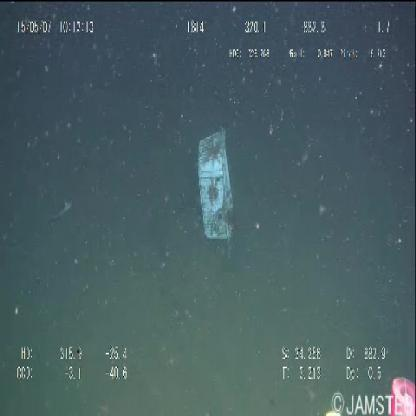Rác: (198, 128, 234, 245)
